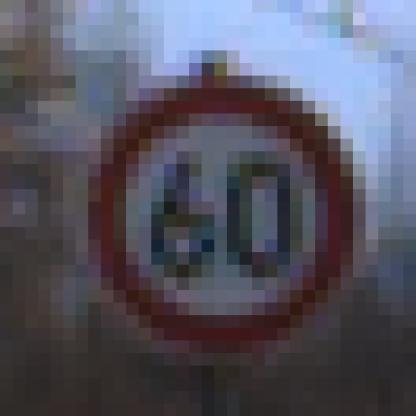Speed Limit -60-: (97, 40, 377, 376)
